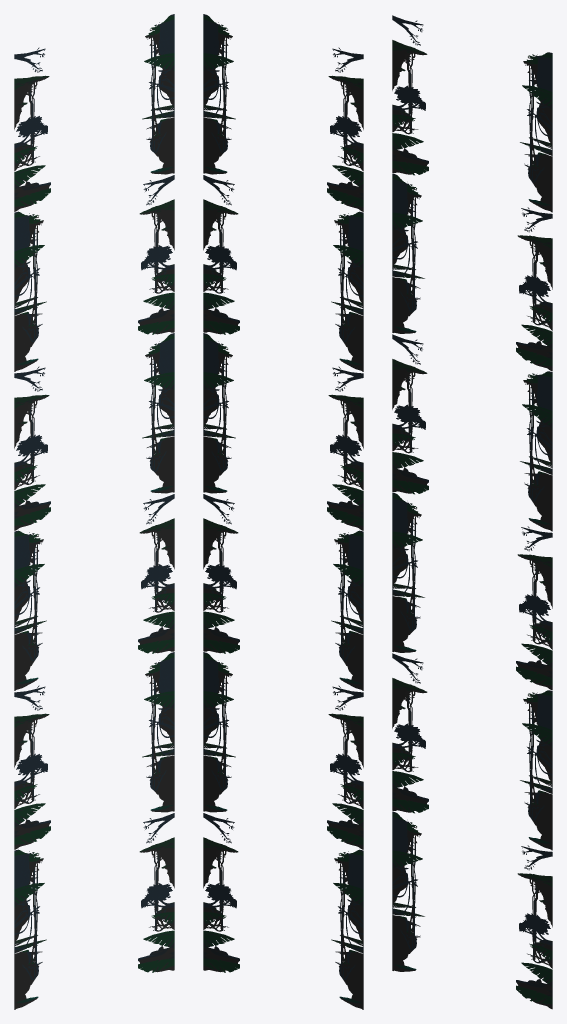
File: Selva_Layer_01.FBX
3 renders of one model, left to right at view 1: azimuth 30°, elevation 25°; view 2: azimuth 150°, elevation 25°; view 3: azimuth 330°, elevation 25°, orthographic.
Parts seen in each view (by area): view 1: Object001; view 2: Object001; view 3: Object001.
Part boxes in pixels (box(x1,y1,x2,y2)): Object001: box(14, 14, 174, 1009); Object001: box(203, 14, 363, 1009); Object001: box(392, 15, 552, 1009).
Bounding box in the file's own units: 2100 × 12000 × 0.000977.
